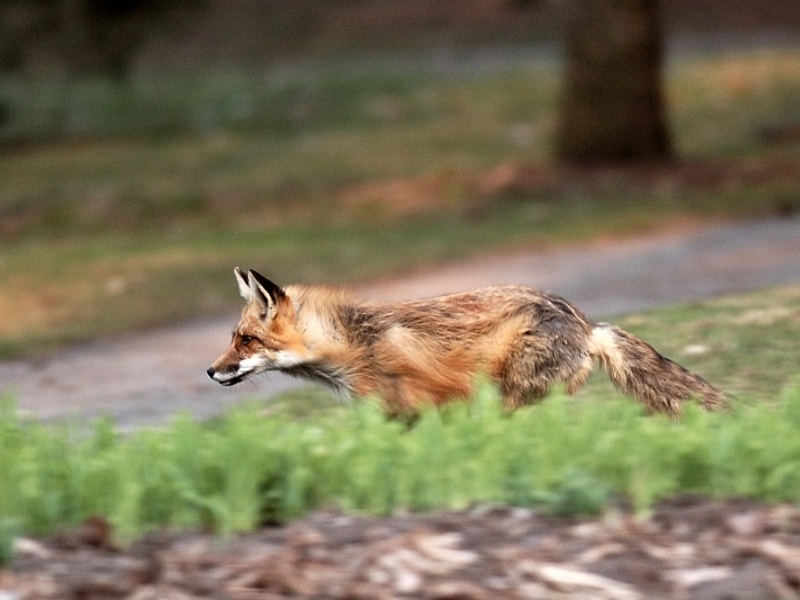fox: (200, 260, 751, 433)
